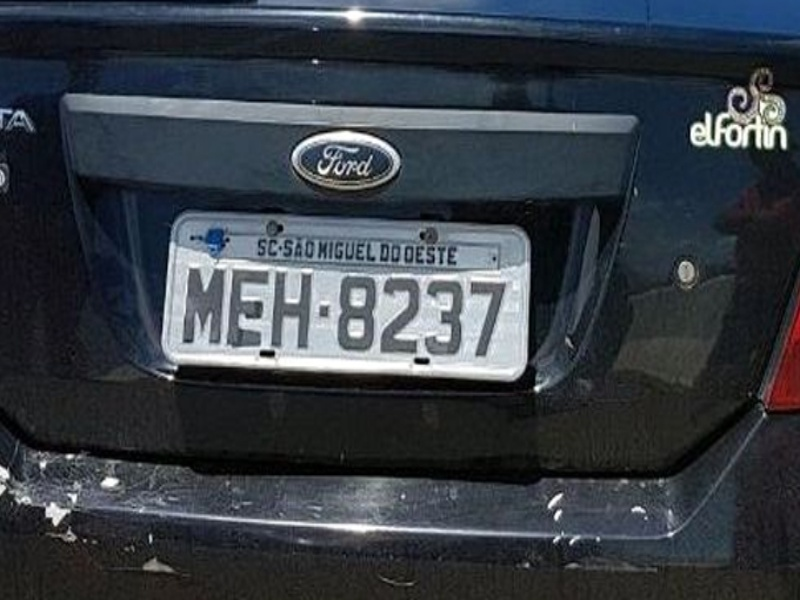placa: (153, 195, 537, 391)
